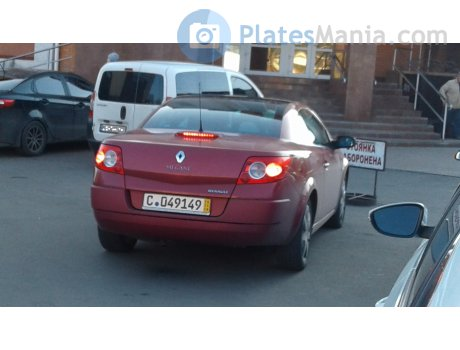License Plates: (147, 193, 202, 209)
